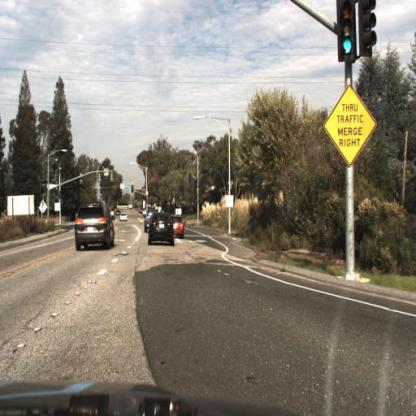car: (75, 198, 119, 248), (148, 207, 177, 246), (142, 206, 155, 235), (173, 215, 187, 238), (121, 214, 129, 224)
trafficLight-Green: (339, 1, 356, 63)
